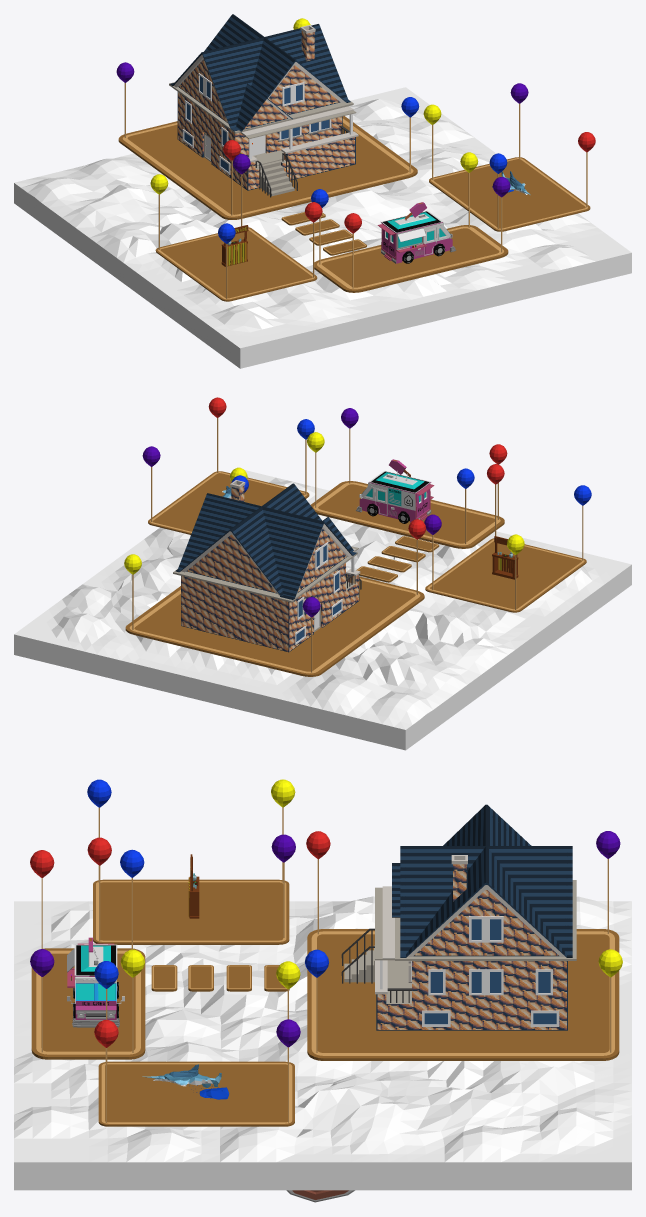
The picture shows the model from 3 angles, top to bottom: view 1: azimuth 30°, elevation 25°; view 2: azimuth 150°, elevation 25°; view 3: azimuth 270°, elevation 25°; orthographic projection. The views are drawn at different scales.
Visible parts, largest first — view 1: Cube.013, Cube.430, VEHICLES_ICE_CREAM_TRUCK, OBJRANDOM_LEMONADE_STAND; view 2: Cube.013, Cube.430, VEHICLES_ICE_CREAM_TRUCK, OBJRANDOM_LEMONADE_STAND; view 3: Cube.013, Cube.430, VEHICLES_ICE_CREAM_TRUCK, ANIMAL_PEZ_ESPADA, OBJRANDOM_LEMONADE_STAND.
Boxes of the visible parts, x1,y1,x2,y2 form: Cube.013: [14, 18, 631, 368]; Cube.430: [169, 14, 358, 197]; VEHICLES_ICE_CREAM_TRUCK: [377, 202, 456, 263]; OBJRANDOM_LEMONADE_STAND: [221, 225, 248, 266]; Cube.013: [14, 397, 631, 750]; Cube.430: [173, 480, 361, 652]; VEHICLES_ICE_CREAM_TRUCK: [355, 459, 434, 523]; OBJRANDOM_LEMONADE_STAND: [492, 536, 518, 579]; Cube.013: [14, 779, 631, 1190]; Cube.430: [341, 804, 576, 1030]; VEHICLES_ICE_CREAM_TRUCK: [67, 937, 124, 1027]; ANIMAL_PEZ_ESPADA: [142, 1064, 229, 1099]; OBJRANDOM_LEMONADE_STAND: [188, 854, 199, 918].
Bounding box in the file's own units: 4000 × 2404 × 4000.
Materials: 52 (2 with a texture image).
